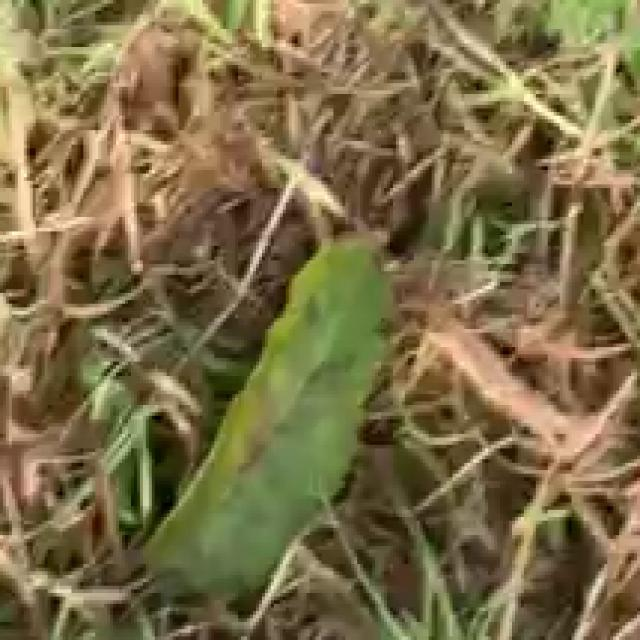organic waste: (54, 126, 482, 604)
